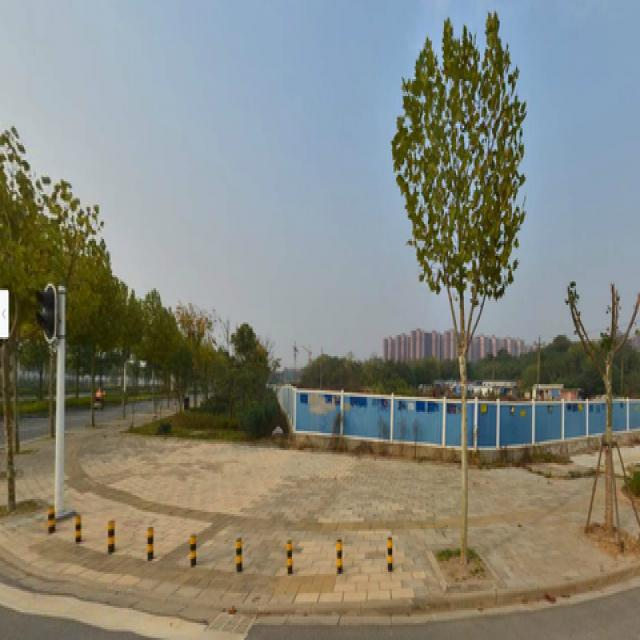meta: (392, 5, 533, 568)
